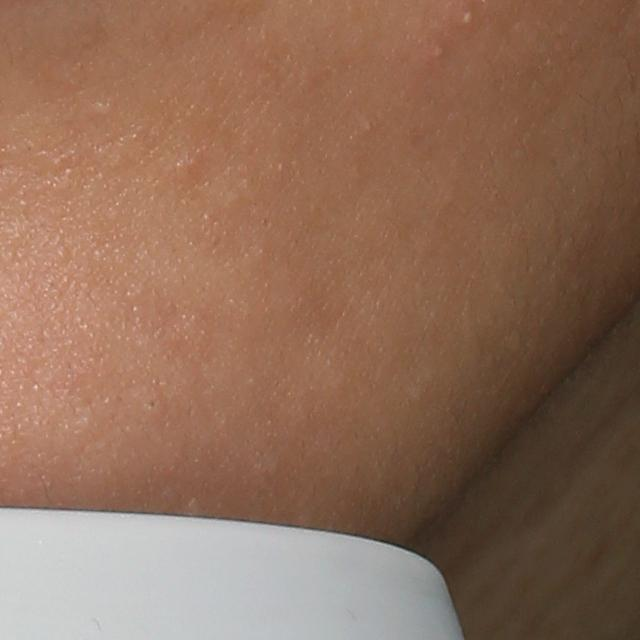comedo: (143, 395, 163, 413)
pustule: (457, 7, 480, 30)
